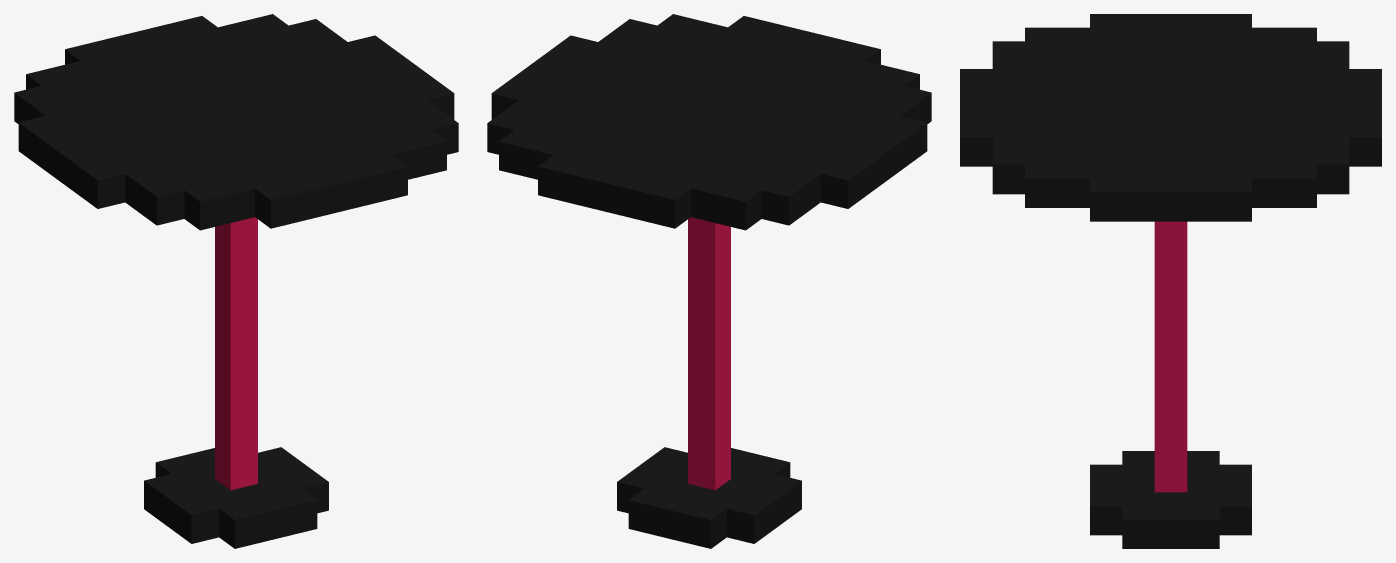
Rendered from table1.obj.
3 views of the same model, side by side, from view 1: azimuth 30°, elevation 25°; view 2: azimuth 150°, elevation 25°; view 3: azimuth 270°, elevation 25° (orthographic). The views are drawn at different scales.
Visible parts, largest first — view 1: table1; view 2: table1; view 3: table1.
Boxes of the visible parts, x1,y1,x2,y2 form: table1: [14, 14, 458, 548]; table1: [487, 14, 931, 548]; table1: [960, 14, 1381, 548].
Bounding box in the file's own units: 13 × 14 × 13.
Materials: 1 (1 with a texture image).
